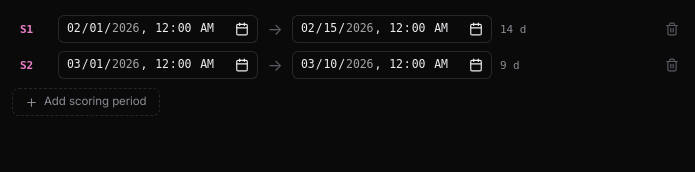
it: TestPeriodsEditor (scoring periods) › a half-typed date (the field reports "") never reaches the parent: the row is named as pending and blur / Enter put the date back
Clear the field named "Scoring period 2 end" at (378,65), box [293, 52, 463, 78]
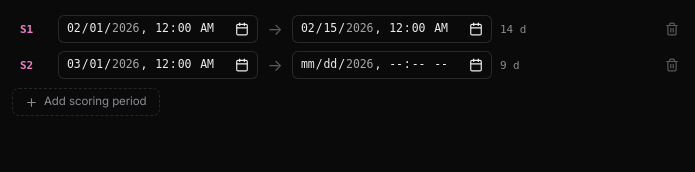
Expected: the text with test id "test-days-2" reads "9 d", [500, 58, 520, 72]
# no "S2 needs an end date" is written by leaving the field
Leave the field named "Scoring period 2 end", box [293, 52, 463, 78]
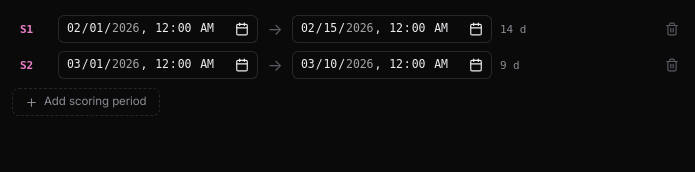
Result: the field named "Scoring period 2 end" holds "2026-03-10T00:00" at [293, 52, 463, 78]
Clear the field named "Scoring period 1 start" at (144,29), box [59, 16, 229, 42]
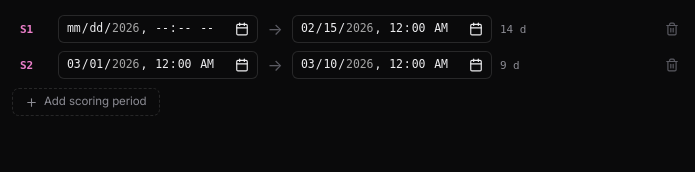
Press Enter in the field named "Scoring period 1 start", box [59, 16, 229, 42]
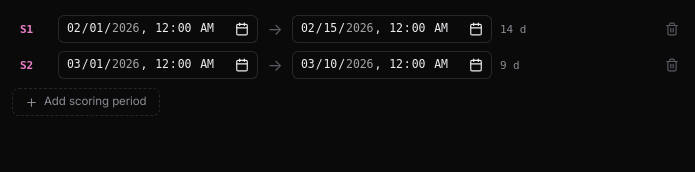
Result: the field named "Scoring period 1 start" holds "2026-02-01T00:00" at [59, 16, 229, 42]
